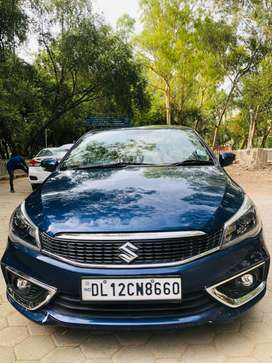DL12CN8660: (80, 278, 182, 300)
